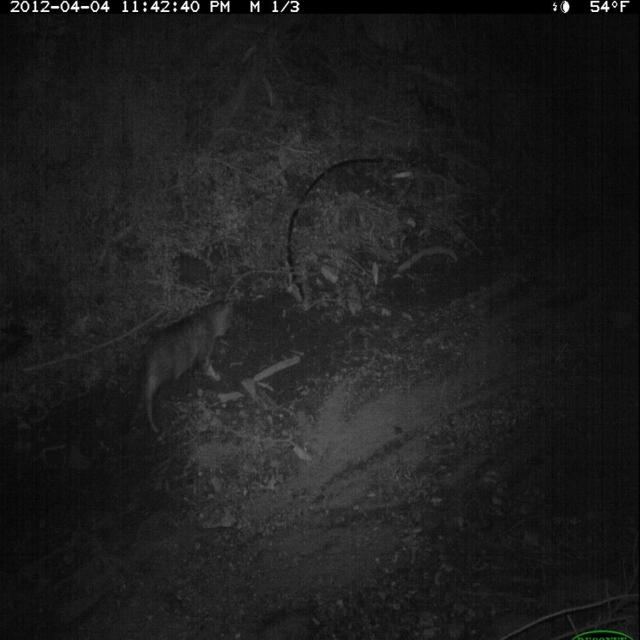cat: (119, 285, 239, 445)
